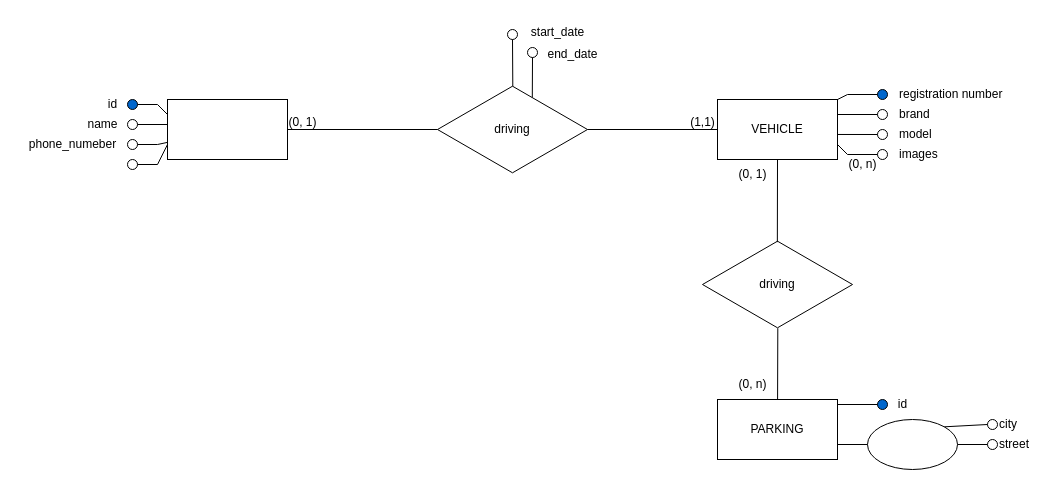
Image size: 1064x487. Some labels were removed from this diagram. The box of each missing label's shape, as (x1, y1, x2, y2) in pixels:
address: (866, 418, 958, 470)
DRIVER: (166, 98, 288, 160)
